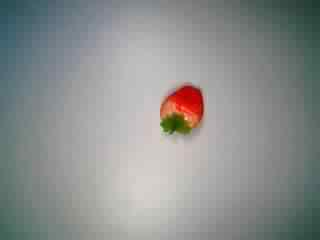strawberry: (146, 77, 212, 143)
